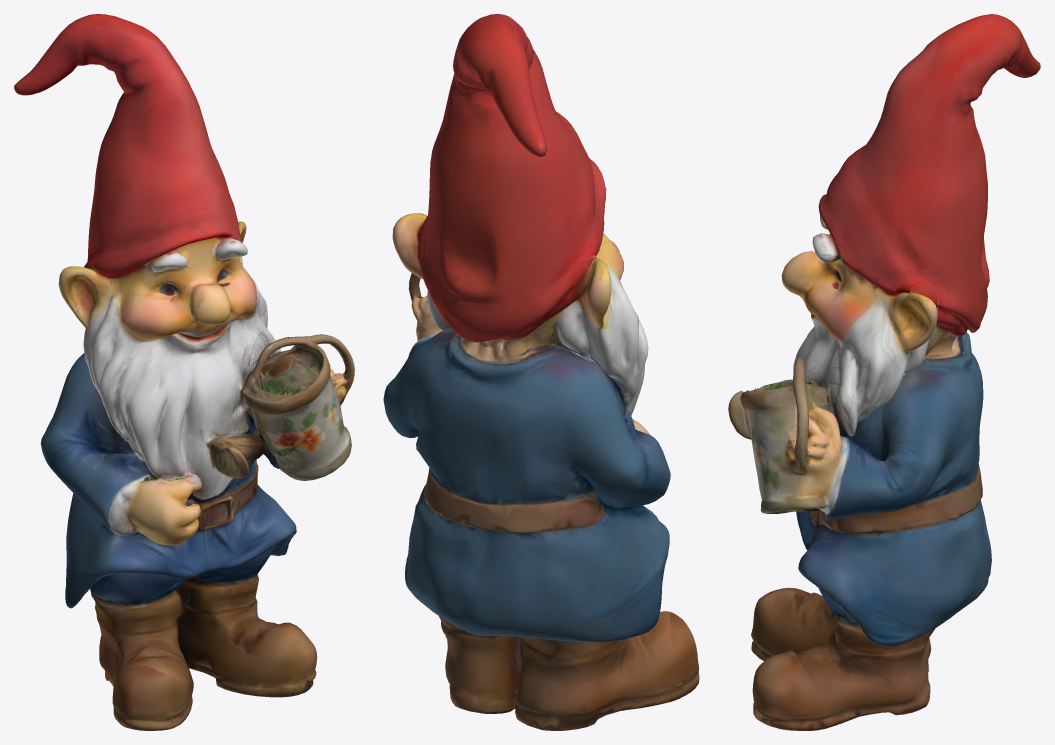
File: garden_gnome_0716005104_texture.fbx
3 renders of one model, left to right at view 1: azimuth 30°, elevation 25°; view 2: azimuth 150°, elevation 25°; view 3: azimuth 270°, elevation 25°, orthographic. The views are drawn at different scales.
Visible parts, largest first — view 1: Mesh_0; view 2: Mesh_0; view 3: Mesh_0.
Boxes of the visible parts, x1,y1,x2,y2 form: Mesh_0: (14,14,354,730); Mesh_0: (383,14,699,730); Mesh_0: (728,14,1040,730).
Size of the model in its own units: 85.39 by 200 by 86.04.
1 material, 1 textured.
